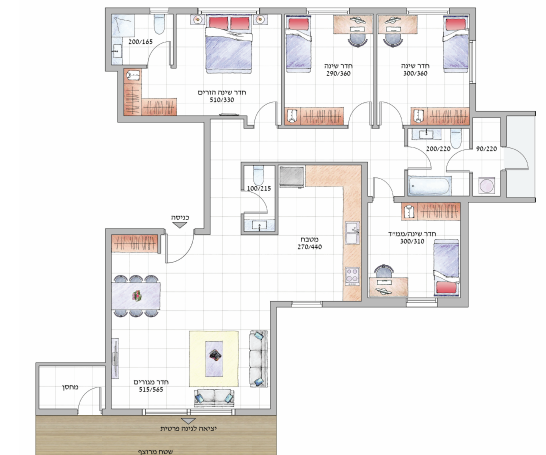door: (163, 240, 200, 269), (250, 93, 280, 121), (145, 37, 173, 66), (508, 144, 534, 169), (348, 94, 374, 119), (379, 95, 405, 120), (78, 380, 103, 404), (370, 173, 396, 195), (440, 149, 466, 171)
wall: (105, 227, 112, 417), (461, 195, 469, 306), (362, 162, 368, 306), (270, 301, 277, 414), (205, 120, 211, 231), (117, 115, 197, 123)
window: (198, 6, 254, 13), (305, 5, 350, 13), (405, 6, 450, 14), (405, 298, 438, 307), (291, 298, 324, 307), (469, 40, 476, 80), (150, 5, 165, 13)
